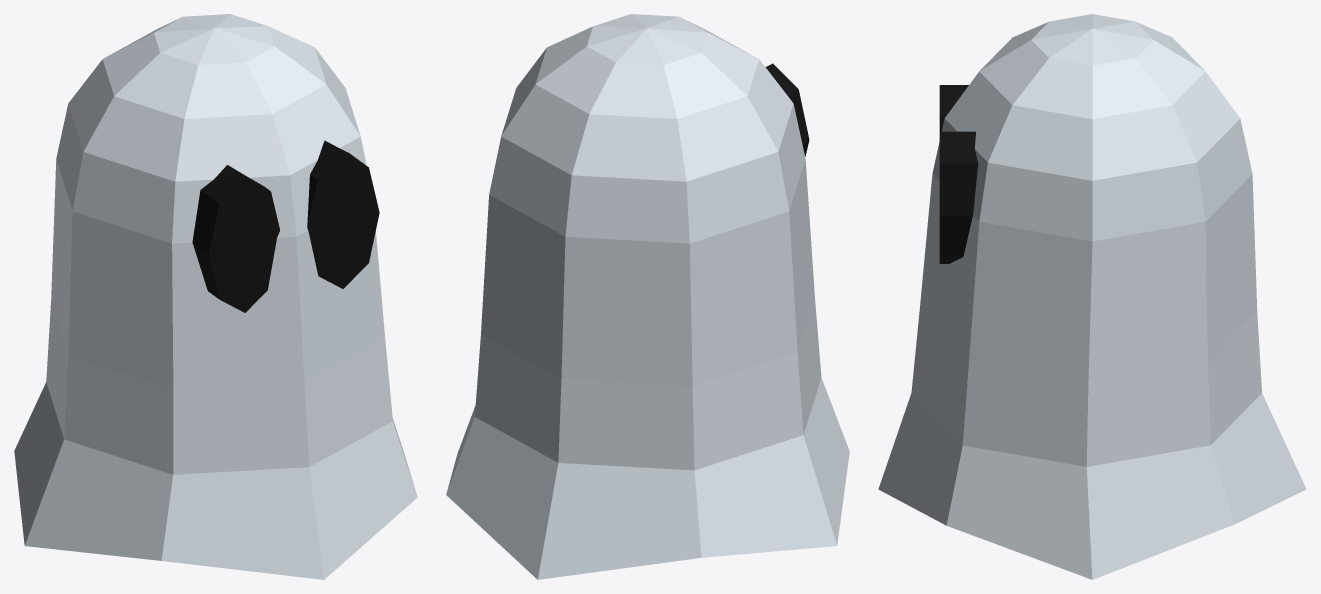
File: Ghost.fbx
The picture shows the model from 3 angles, left to right: view 1: azimuth 30°, elevation 25°; view 2: azimuth 150°, elevation 25°; view 3: azimuth 270°, elevation 25°; orthographic projection. The views are drawn at different scales.
Visible parts, largest first — view 1: Sphere, Cylinder, Cylinder.001; view 2: Sphere, Cylinder; view 3: Sphere, Cylinder.001, Cylinder.
Part boxes in pixels (box(x1,y1,x2,y2)): Sphere: box(14, 14, 417, 579); Cylinder: box(192, 165, 279, 312); Cylinder.001: box(307, 140, 379, 288); Sphere: box(446, 14, 849, 579); Cylinder: box(765, 63, 809, 156); Sphere: box(878, 14, 1306, 579); Cylinder.001: box(939, 131, 978, 263); Cylinder: box(939, 85, 968, 131).
Size of the model in its own units: 107 by 127 by 107.
